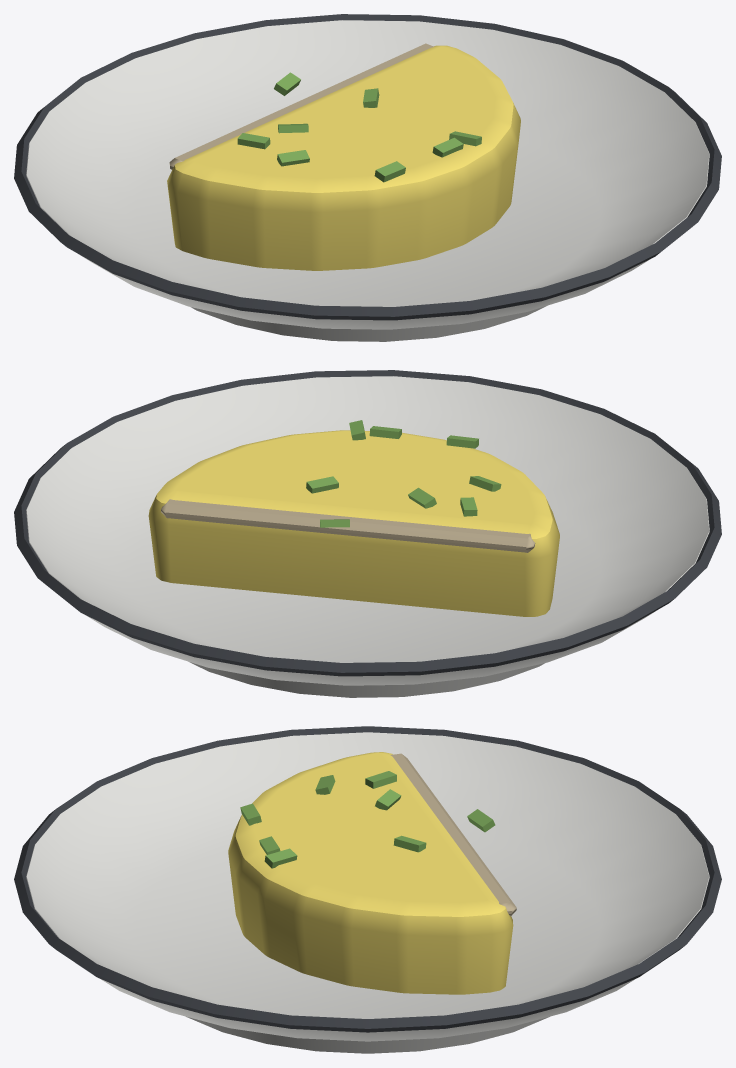
File: cook_omelette.glb
3 views of the same model, one above another, from view 1: azimuth 30°, elevation 25°; view 2: azimuth 150°, elevation 25°; view 3: azimuth 270°, elevation 25° (orthographic).
Visible parts, largest first — view 1: body; view 2: body; view 3: body.
Boxes of the visible parts, left/top/right/bottom form: body: left=14, top=14, right=721, bottom=341; body: left=14, top=370, right=721, bottom=697; body: left=14, top=726, right=721, bottom=1053.
Size of the model in its own units: 0.0668 by 0.0134 by 0.0668.
